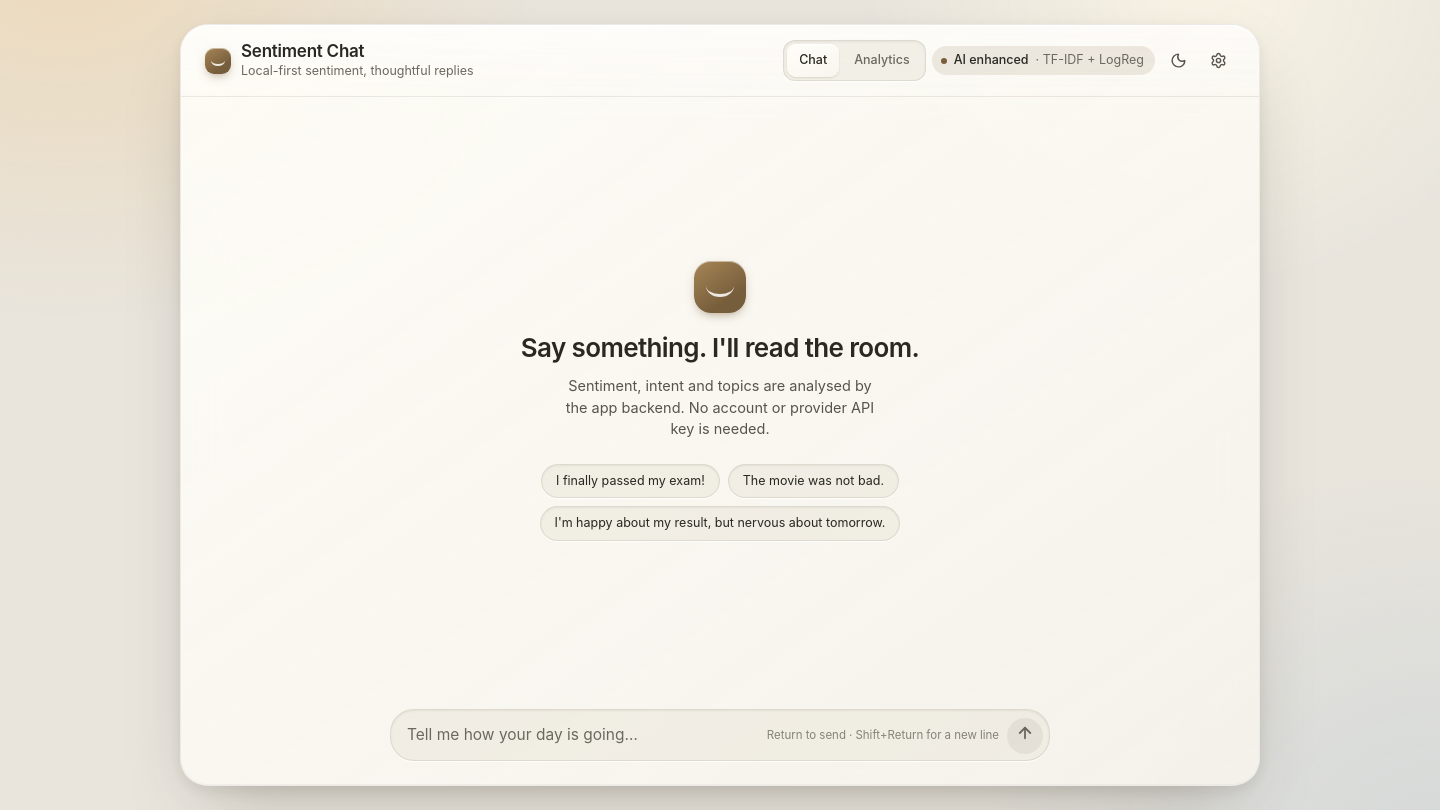
fallback from AI to local is communicated
This screenshot has width=1440, height=810.
Expected: the message named "Active mode: AI enhanced" is shown, 932,46 -> 1155,75
In the text box named "Message": point(583, 735) 407,716 -> 759,754, type "hi"
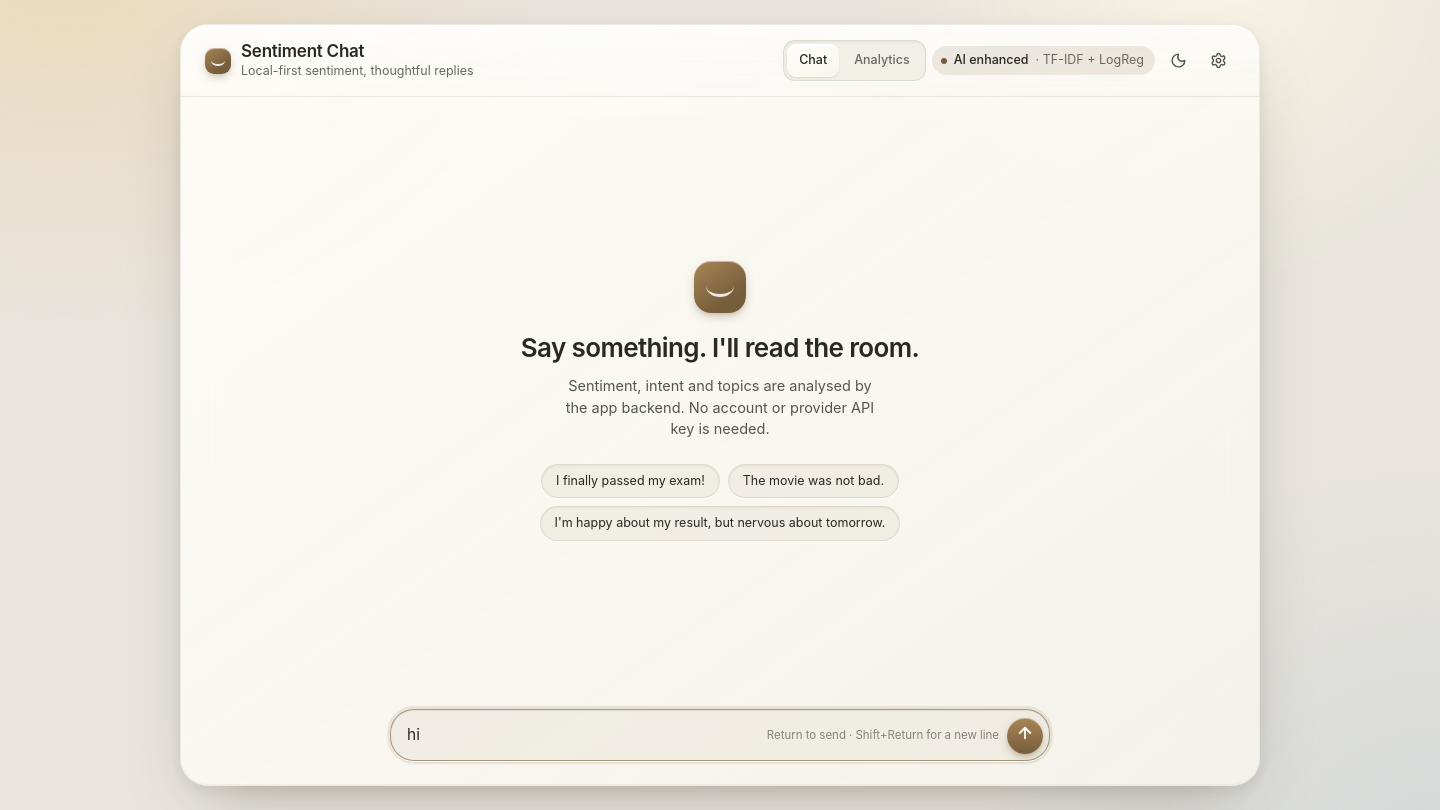
Click the button named "Send message": point(1025, 736) 1007,718 -> 1043,754
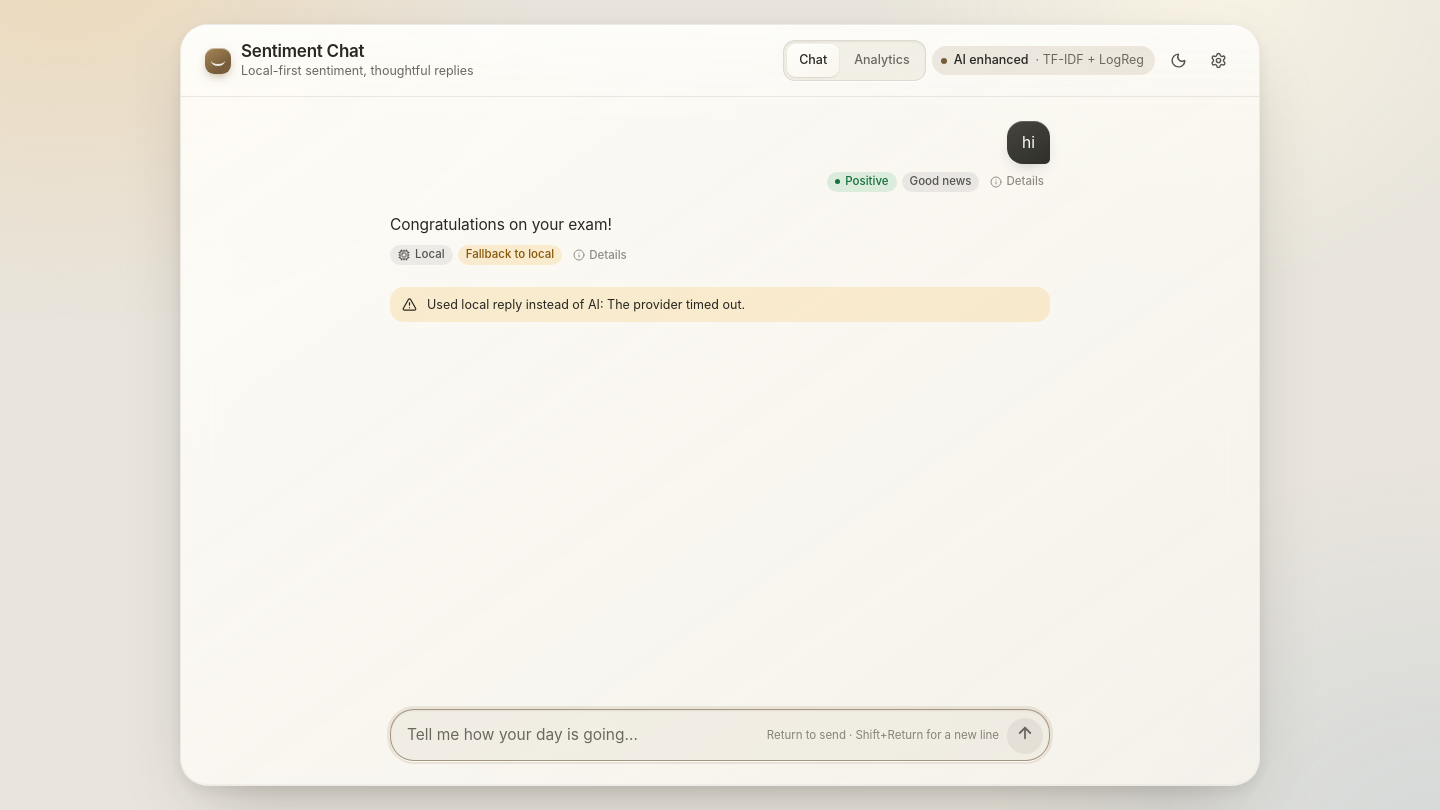
Expected: the text "Used local reply instead of AI: The provider timed out." is shown, 427,296 -> 745,313
Expected: the text "Fallback to local" is shown, 458,246 -> 562,265
